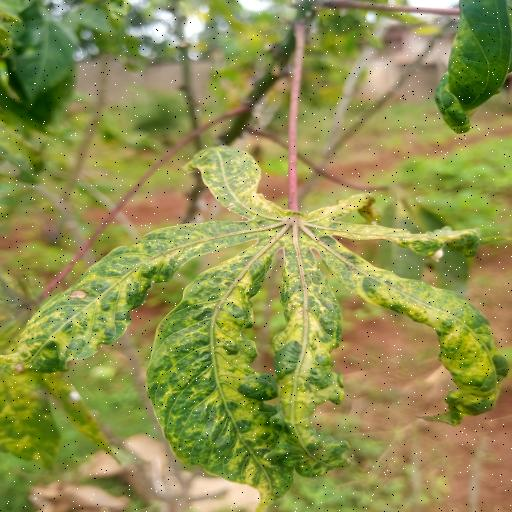Cassava_Mosaic: (11, 145, 512, 496)
